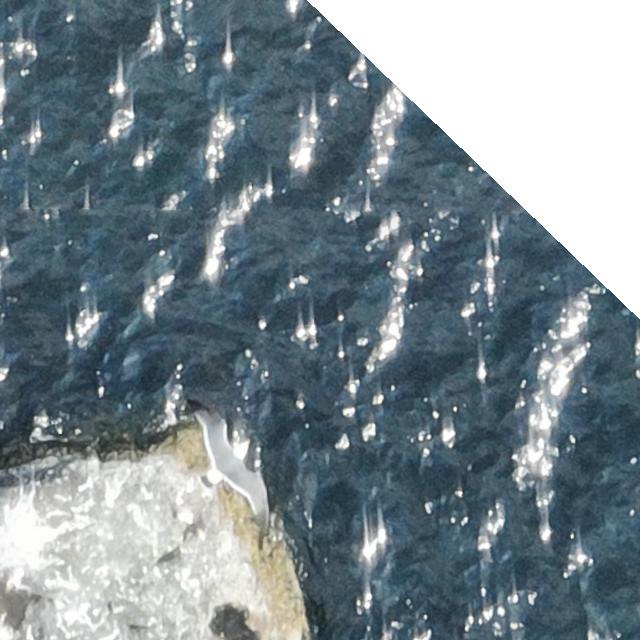F: (198, 413, 266, 512)
umineko: (175, 492, 211, 526)
